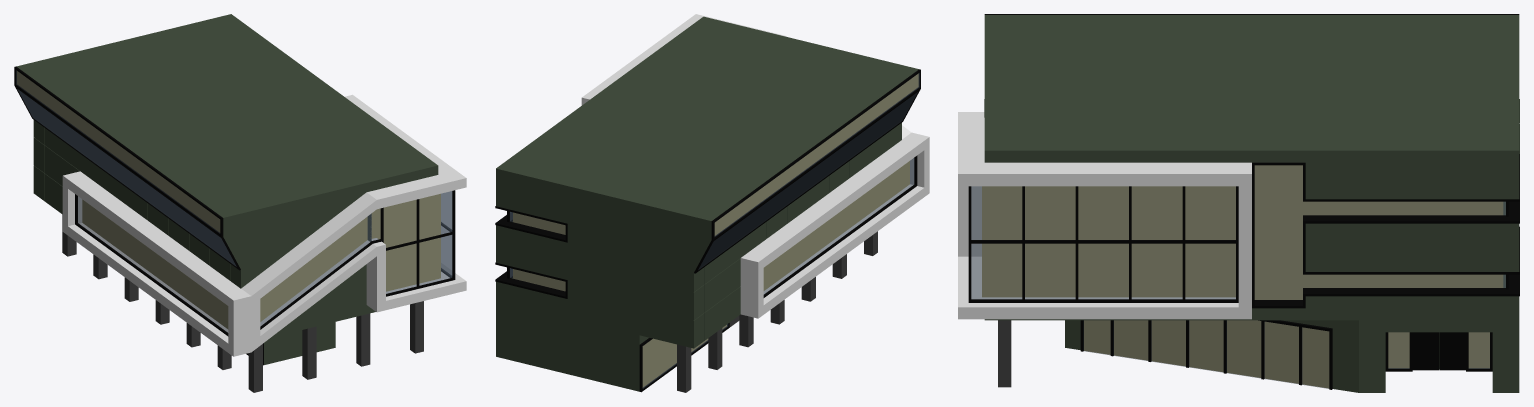
The picture shows the model from 3 angles, left to right: view 1: azimuth 30°, elevation 25°; view 2: azimuth 150°, elevation 25°; view 3: azimuth 270°, elevation 25°; orthographic projection. The views are drawn at different scales.
Parts seen in each view (by area): view 1: Main Building_0, Glass_5, Cube_9, Cube.002_11, Windows Frame_7, Pillar_1, Cube.001_10; view 2: Main Building_0, Glass_5, Cube_9, Cube.002_11, Windows Frame_7, Pillar_1, Cube.001_10; view 3: Main Building_0, Glass_5, Windows Frame_7, Main Door_2, Pillar_1.
Part boxes in pixels (left/top/right/bottom): Main Building_0: left=16, top=14, right=466, bottom=364; Glass_5: left=16, top=70, right=452, bottom=332; Cube_9: left=62, top=171, right=251, bottom=356; Cube.002_11: left=33, top=120, right=241, bottom=288; Windows Frame_7: left=14, top=66, right=455, bottom=365; Pillar_1: left=62, top=214, right=423, bottom=392; Cube.001_10: left=75, top=194, right=228, bottom=336; Main Building_0: left=496, top=14, right=918, bottom=391; Glass_5: left=510, top=73, right=919, bottom=388; Cube_9: left=740, top=132, right=929, bottom=318; Cube.002_11: left=693, top=123, right=901, bottom=348; Windows Frame_7: left=495, top=69, right=920, bottom=392; Pillar_1: left=677, top=231, right=877, bottom=392; Cube.001_10: left=763, top=155, right=917, bottom=297; Main Building_0: left=958, top=15, right=1519, bottom=392; Glass_5: left=971, top=165, right=1505, bottom=388; Windows Frame_7: left=968, top=14, right=1519, bottom=389; Main Door_2: left=1412, top=332, right=1465, bottom=370; Pillar_1: left=998, top=320, right=1011, bottom=387.
Size of the model in its own units: 13.1 by 10 by 21.02.
